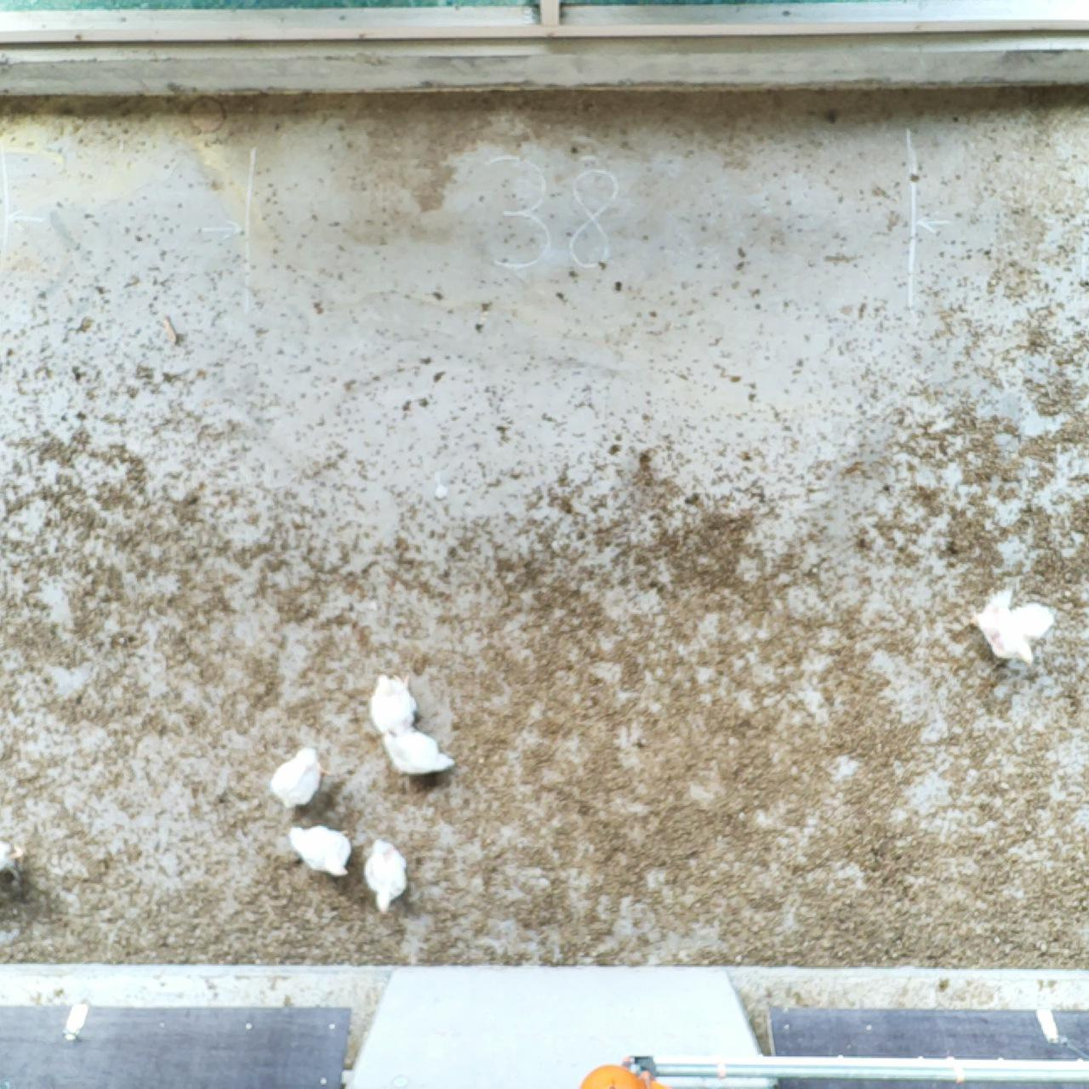chicken: (962, 587, 1052, 665), (265, 744, 338, 815), (284, 820, 355, 882), (381, 724, 458, 780), (362, 833, 413, 914), (365, 669, 423, 738), (0, 836, 29, 882)
